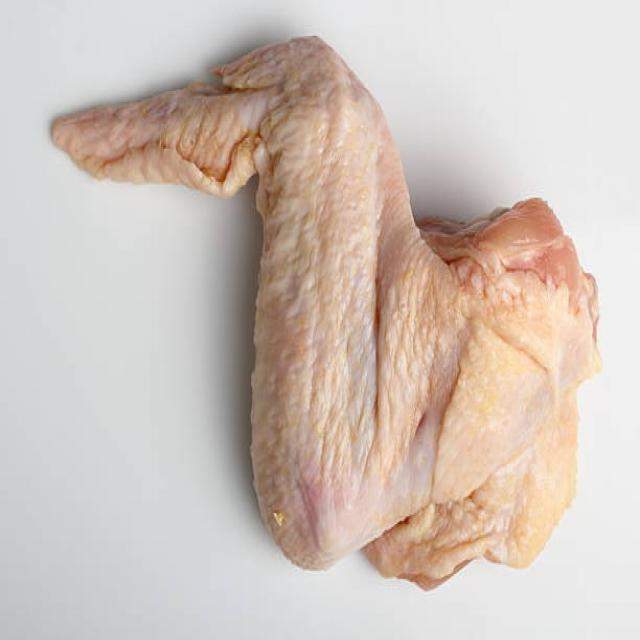Chicken: (40, 24, 586, 579)
